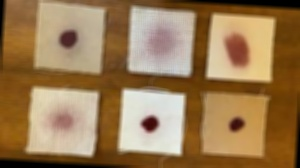wine: (144, 23, 183, 62), (222, 28, 254, 71), (46, 102, 87, 132), (59, 27, 83, 50), (138, 115, 160, 137), (224, 114, 242, 135)
